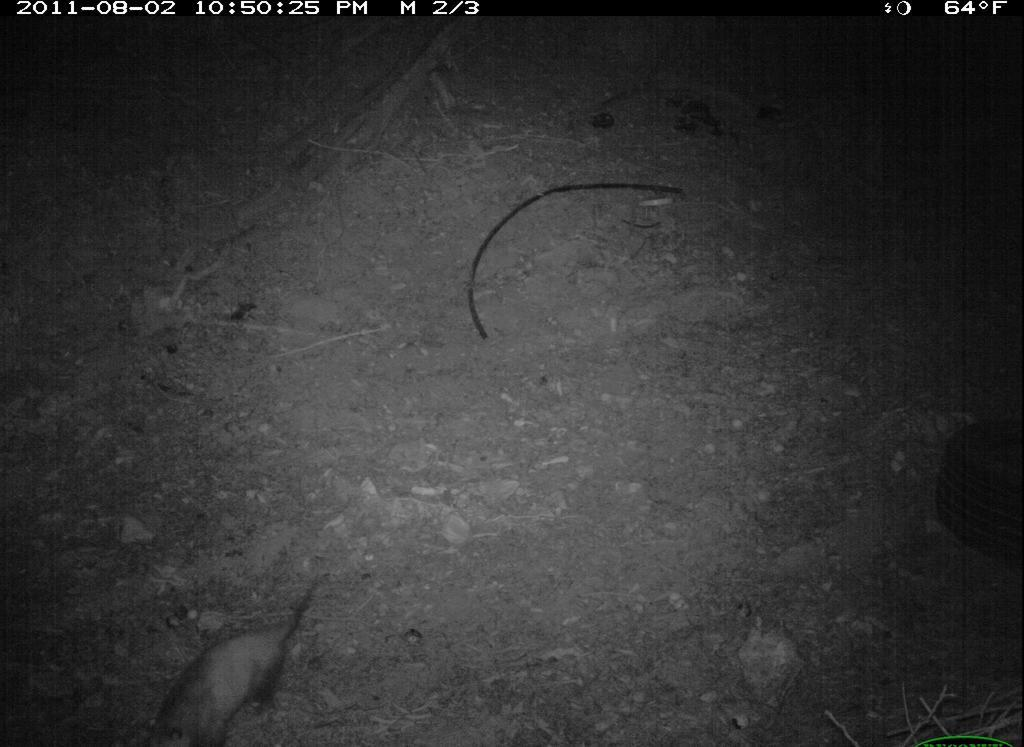opossum: (143, 573, 337, 747)
